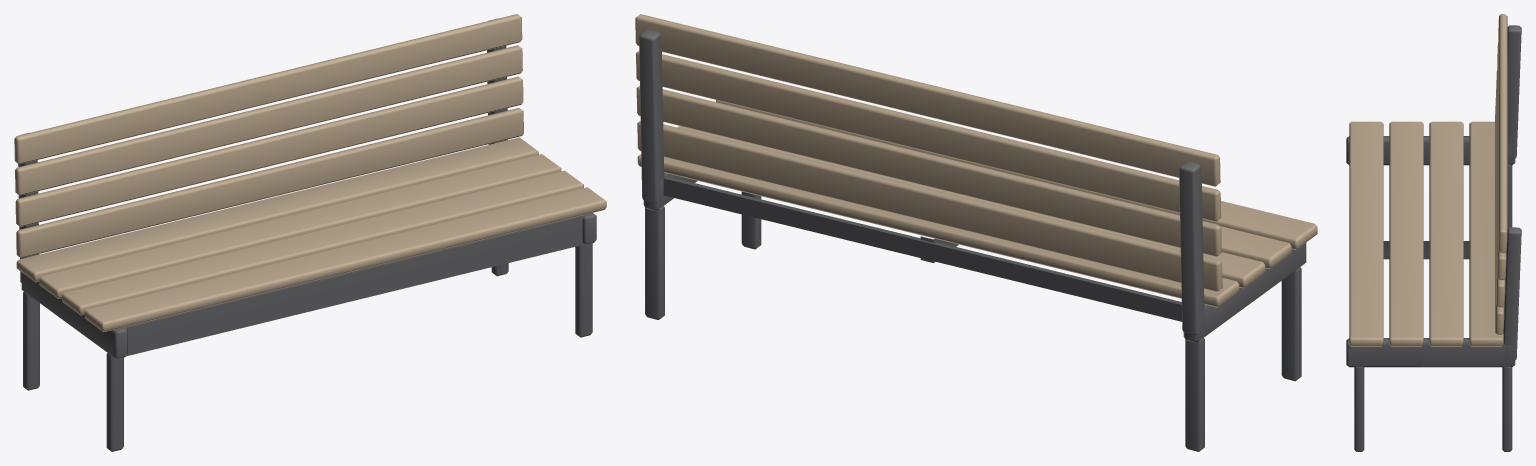
Rendered from bench.glb.
3 renders of one model, left to right at view 1: azimuth 30°, elevation 25°; view 2: azimuth 150°, elevation 25°; view 3: azimuth 270°, elevation 25°, orthographic. The views are drawn at different scales.
Parts seen in each view (by area): view 1: street_bench; view 2: street_bench; view 3: street_bench.
Part boxes in pixels (box(x1,y1,x2,y2)): street_bench: box(14, 14, 606, 451); street_bench: box(635, 14, 1317, 451); street_bench: box(1346, 14, 1521, 451).
Bounding box in the file's own units: 1.8 × 0.8752 × 0.6122.
